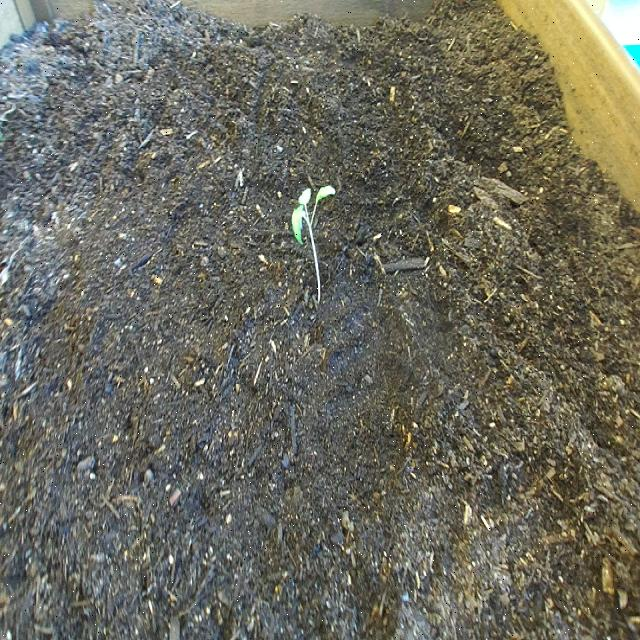Healthy: (288, 171, 336, 315)
